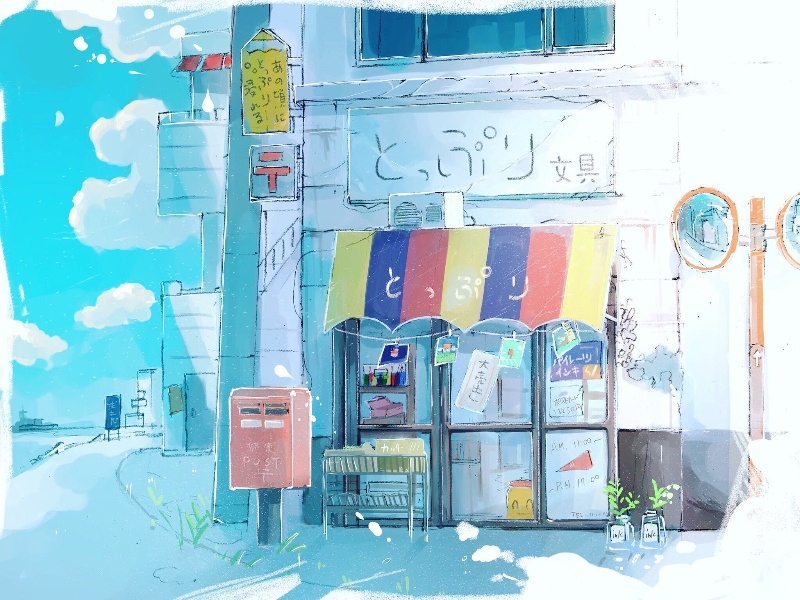letter_box: (219, 384, 326, 497)
